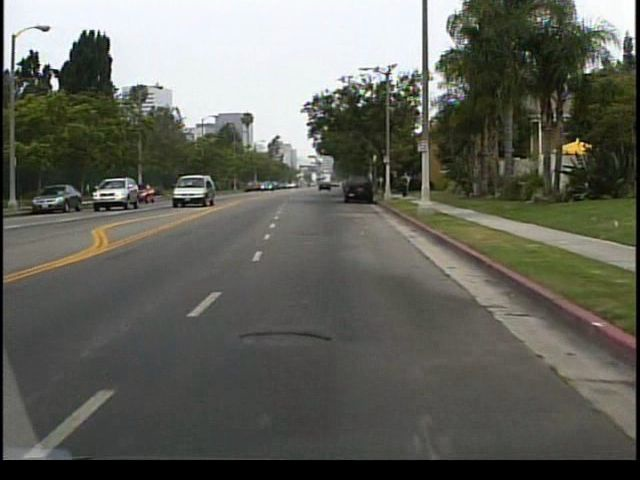person: (401, 169, 415, 200), (398, 175, 409, 199)
